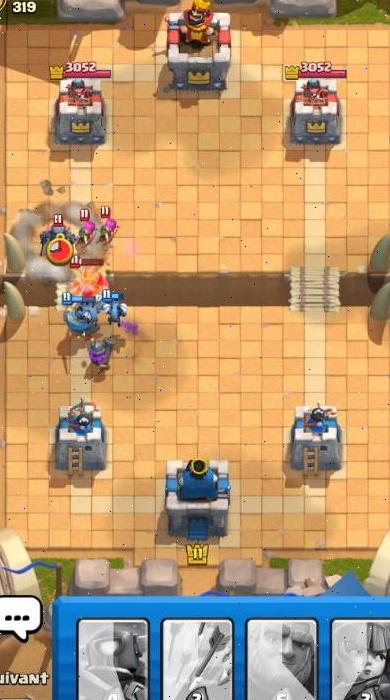enemy_archers: (96, 208, 122, 243), (75, 209, 100, 244)
enemy_knight: (64, 260, 116, 293)
enemy_mini_pekka: (34, 215, 81, 263)
player_knight: (56, 294, 103, 335)
player_minions: (99, 291, 130, 321)
player_musketeer: (79, 329, 125, 373)
